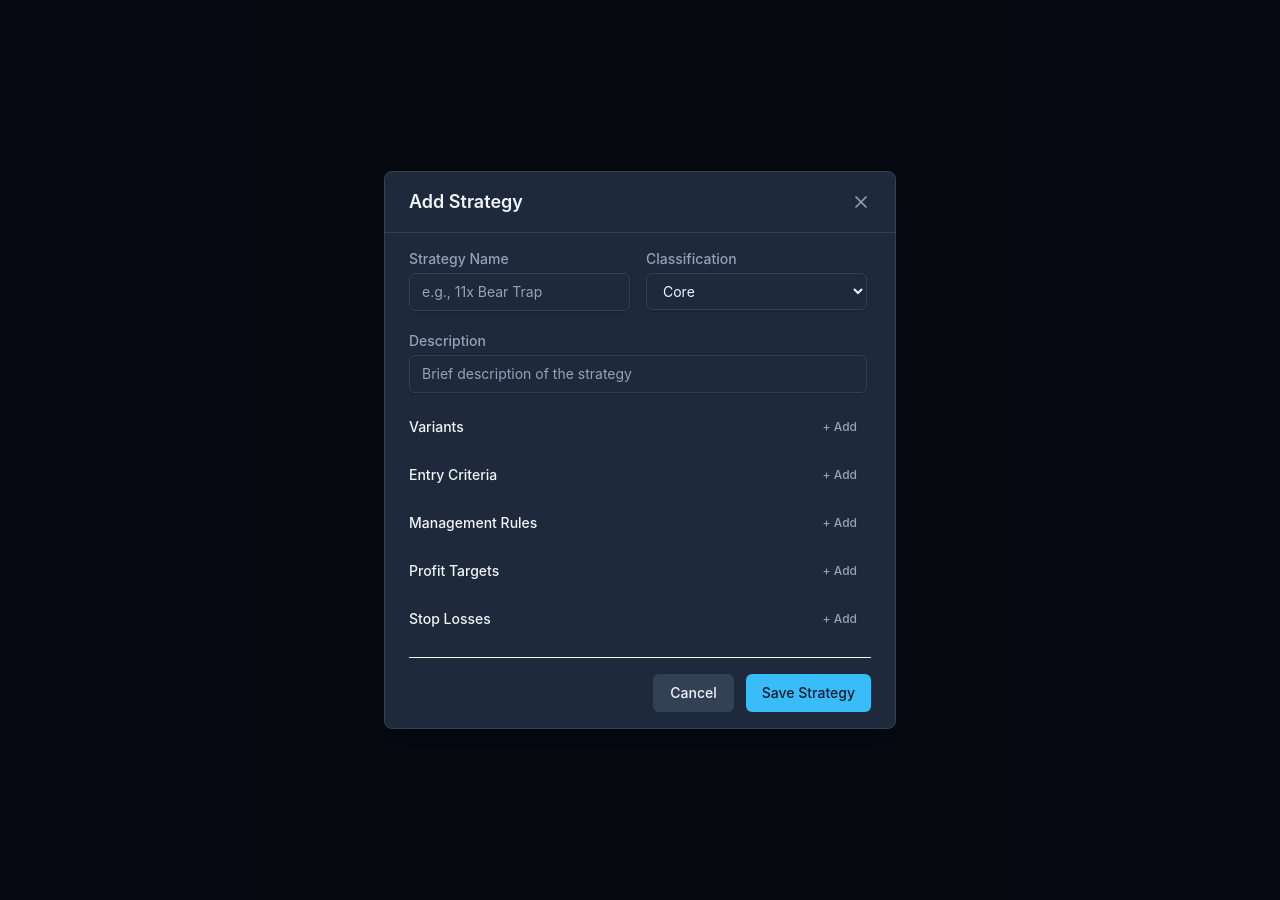
Test case: StrategyEditor › shows validation error when name is empty
The width and height of the screenshot is (1280, 900).
Click the button "Save Strategy": (808, 693) 746,674 -> 871,712
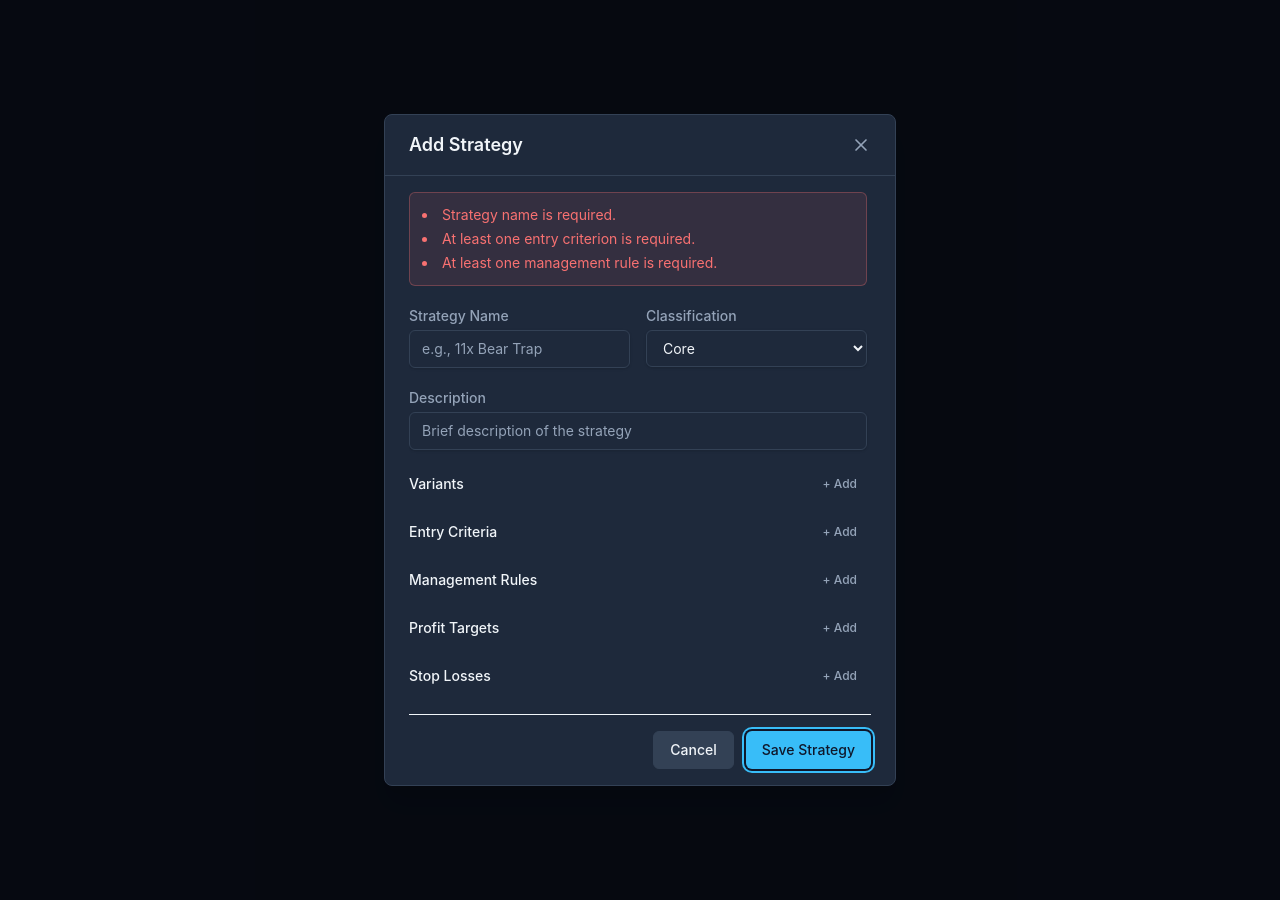
Expected: the list item "Strategy name is required." is shown, 442,206 -> 616,223
